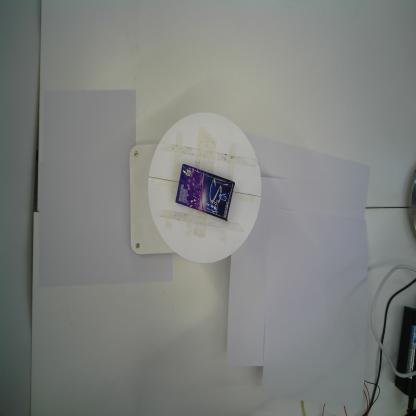Gum: (174, 163, 236, 223)
